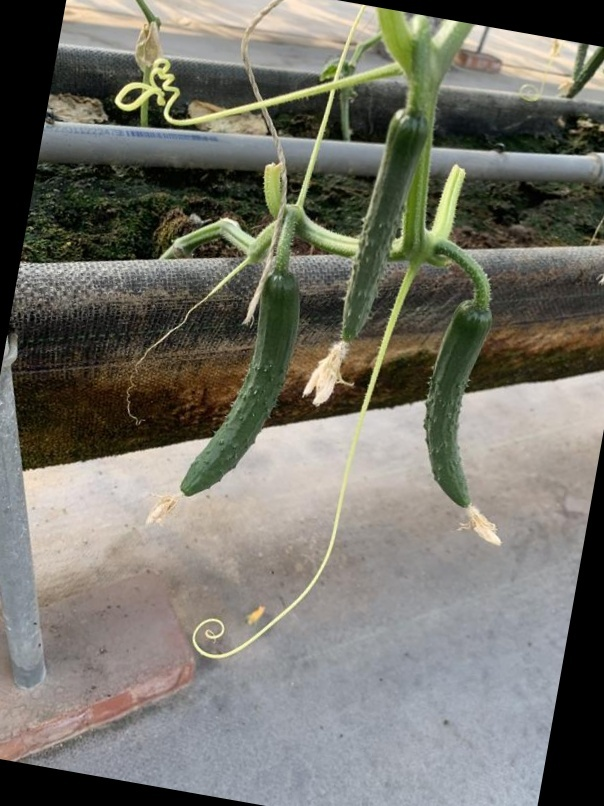growth: (331, 109, 429, 371), (420, 296, 498, 522)
mature: (166, 263, 306, 504), (421, 296, 498, 521)
